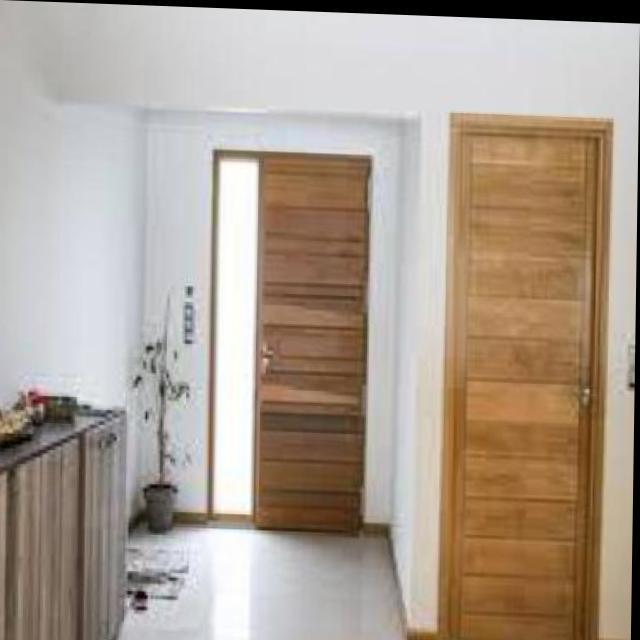door_handle: (553, 373, 598, 406), (260, 348, 275, 386)
